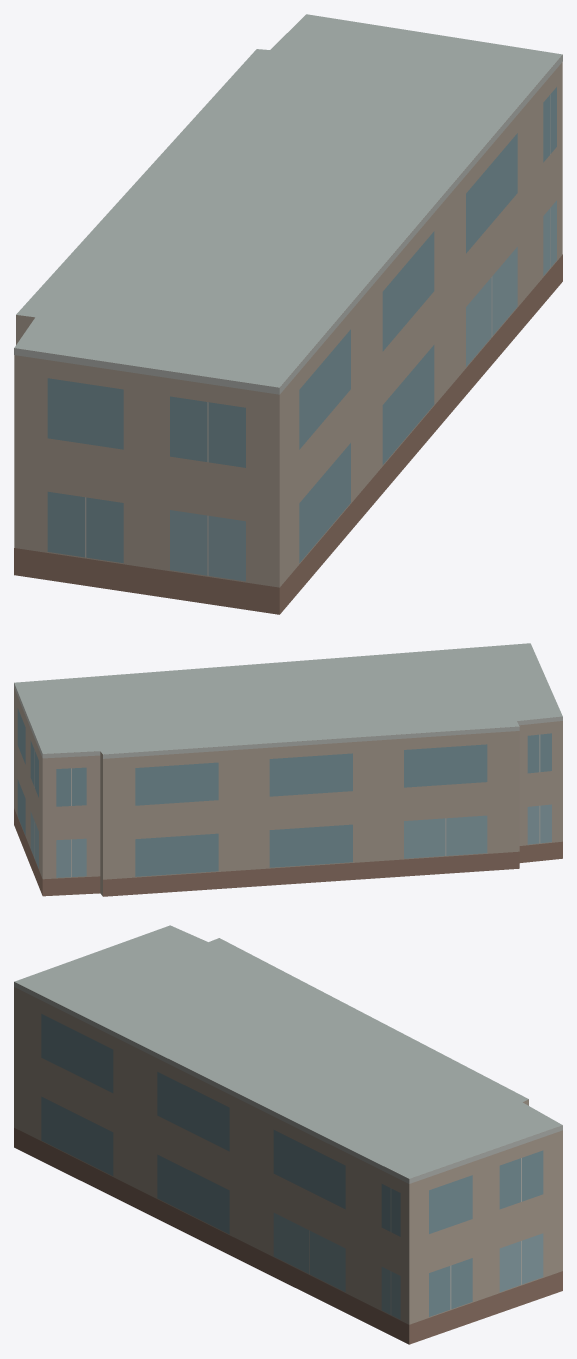
File: survey-upis-32965317.glb
The picture shows the model from 3 angles, top to bottom: view 1: azimuth 30°, elevation 25°; view 2: azimuth 150°, elevation 25°; view 3: azimuth 270°, elevation 25°; orthographic projection. The views are drawn at different scales.
Parts seen in each view (by area): view 1: survey-upis-32965317.tmp; view 2: survey-upis-32965317.tmp; view 3: survey-upis-32965317.tmp.
Boxes of the visible parts, left/top/right/bottom form: survey-upis-32965317.tmp: left=14, top=14, right=562, bottom=614; survey-upis-32965317.tmp: left=14, top=643, right=562, bottom=896; survey-upis-32965317.tmp: left=14, top=925, right=562, bottom=1344.
Size of the model in its own units: 25.95 by 7.9 by 23.73.
